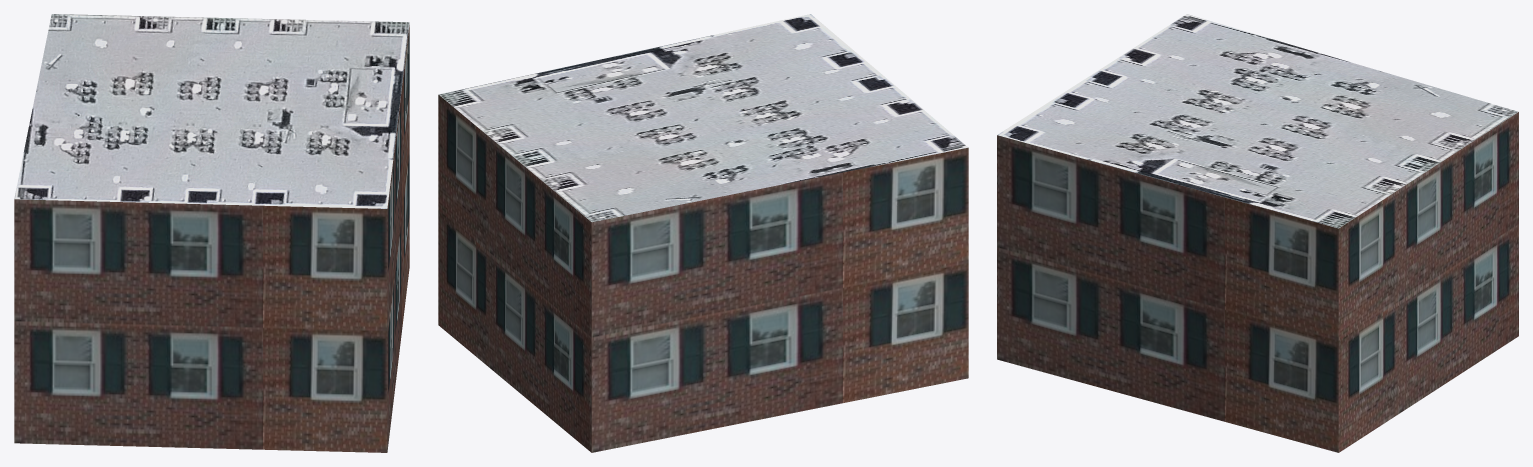
File: ResTex__4411.fbx
The picture shows the model from 3 angles, left to right: view 1: azimuth 30°, elevation 25°; view 2: azimuth 150°, elevation 25°; view 3: azimuth 270°, elevation 25°; orthographic projection. The views are drawn at different scales.
Parts seen in each view (by area): view 1: CityEngineMaterial_14_m, CityEngineMaterial_4_m; view 2: CityEngineMaterial_14_m, CityEngineMaterial_4_m; view 3: CityEngineMaterial_14_m, CityEngineMaterial_4_m.
Part boxes in pixels (x1,y1,x2,y2): CityEngineMaterial_14_m: [14, 25, 409, 452]; CityEngineMaterial_4_m: [14, 14, 409, 208]; CityEngineMaterial_14_m: [438, 95, 968, 452]; CityEngineMaterial_4_m: [438, 14, 967, 222]; CityEngineMaterial_14_m: [997, 112, 1518, 452]; CityEngineMaterial_4_m: [997, 14, 1518, 228].
Size of the model in its own units: 12.31 by 6 by 12.65.
Materials: 2 (2 with a texture image).
